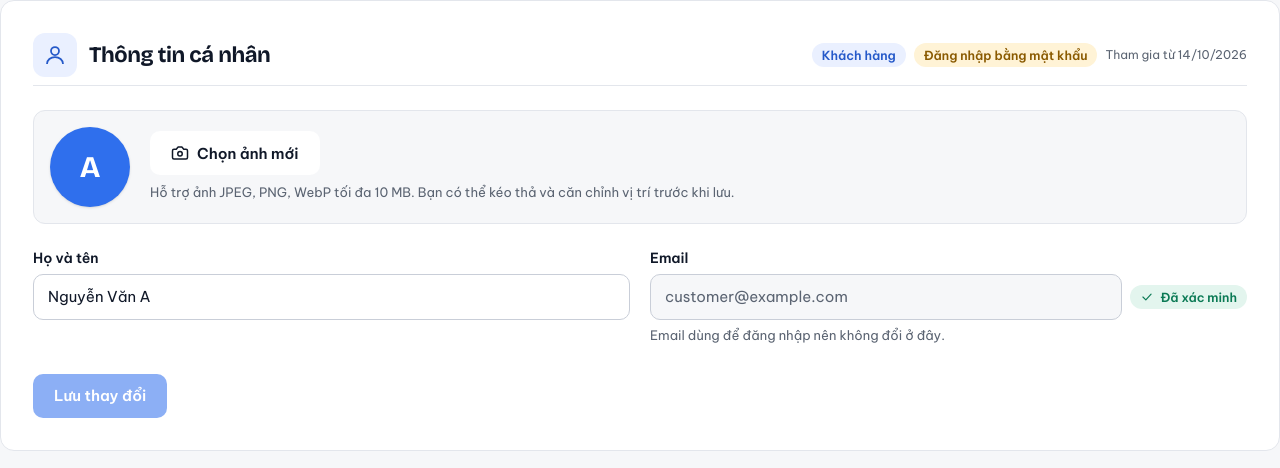
Scenario: ProfileInfoCard › validates empty name and displays error (AC-3)
This screenshot has width=1280, height=468.
Clear the field labelled "Họ và tên" at (332, 297), box [33,274,630,320]
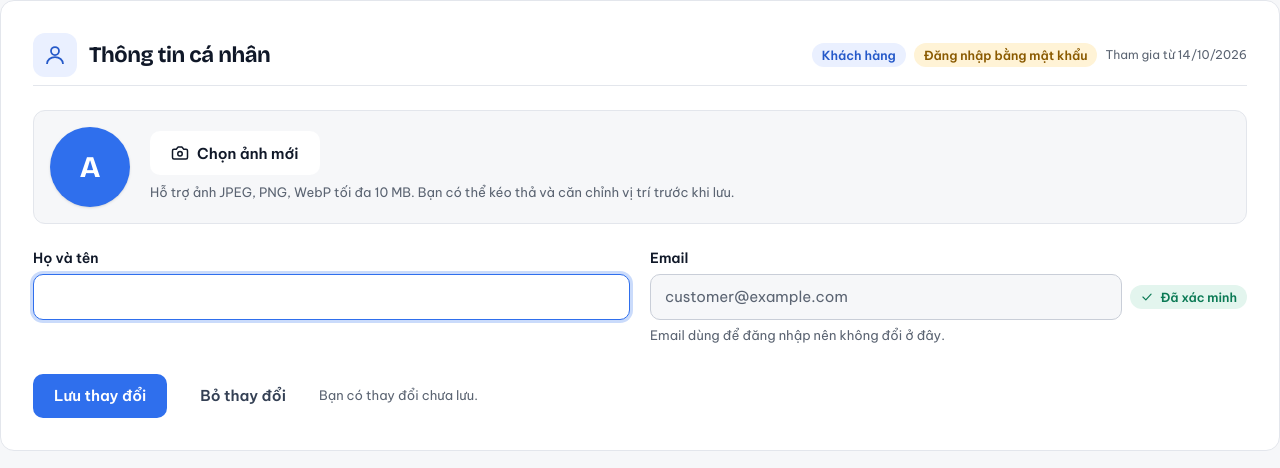
Press Tab
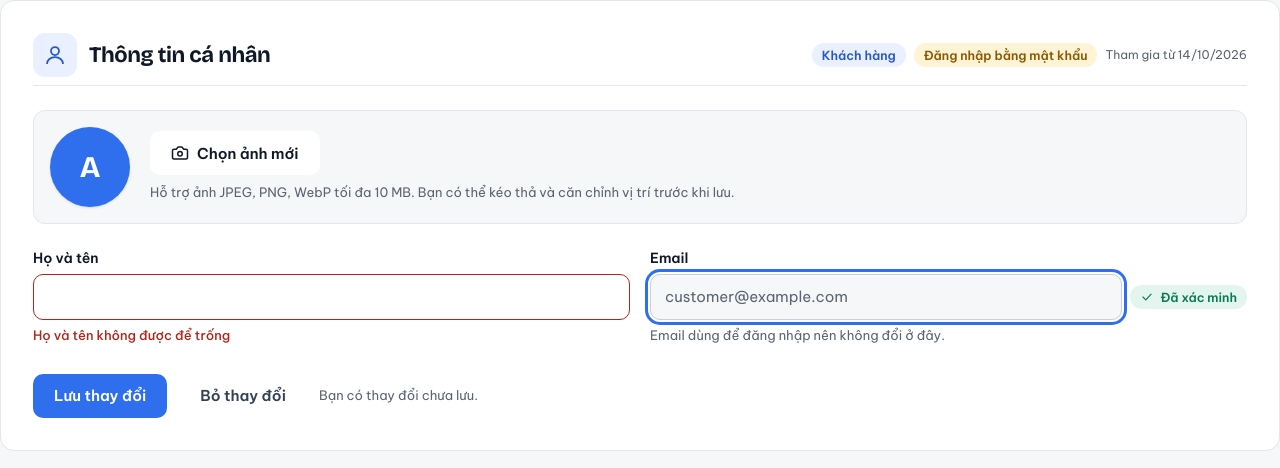
Expected: the text "Họ và tên không được để trống" is shown, [33,327,230,343]
